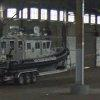Boat: (2, 23, 72, 83)
